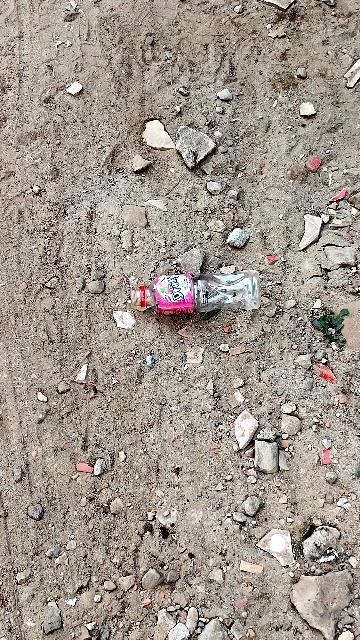bottle: (116, 273, 273, 314)
